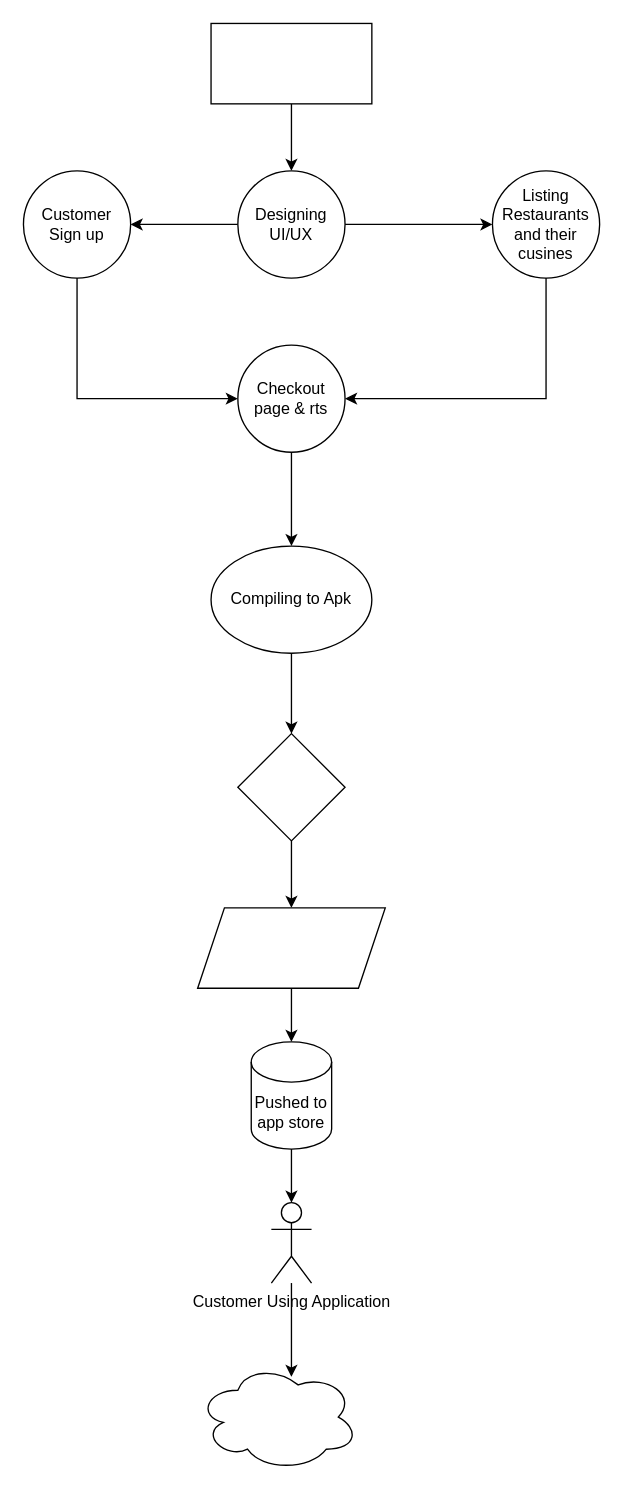
The diagram is 623 pixels wide and 1494 high, and some of its shapes have lost their labels. Each missing label, with the centre of its shape:
"No bugs found" belongs at point 291,786.
"Recieved no feedback" belongs at point 277,1416.
"Writing permission for deployment" belongs at point 290,947.
"Zk Eats" belongs at point 291,63.
